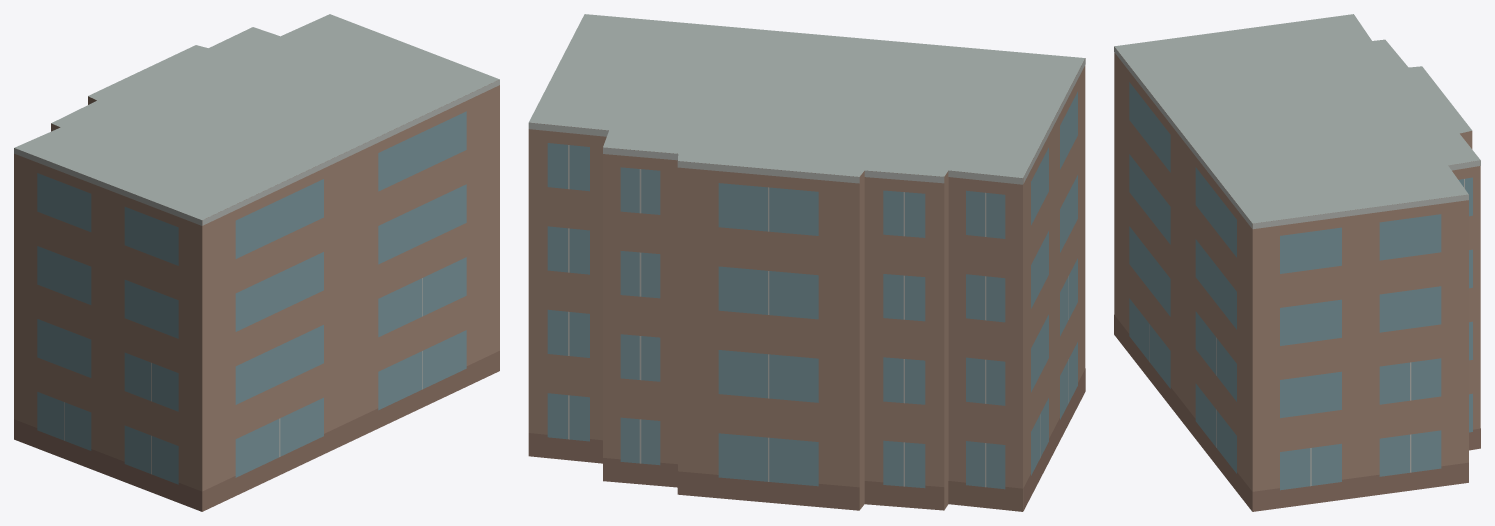
The model's file is survey-upis-32756195.glb.
3 views of the same model, side by side, from view 1: azimuth 30°, elevation 25°; view 2: azimuth 150°, elevation 25°; view 3: azimuth 270°, elevation 25° (orthographic). The views are drawn at different scales.
Visible parts, largest first — view 1: survey-upis-32756195.tmp; view 2: survey-upis-32756195.tmp; view 3: survey-upis-32756195.tmp.
Part boxes in pixels (left/top/right/bottom): survey-upis-32756195.tmp: left=14, top=14, right=499, bottom=511; survey-upis-32756195.tmp: left=528, top=14, right=1085, bottom=511; survey-upis-32756195.tmp: left=1114, top=14, right=1480, bottom=511.
Size of the model in its own units: 19.34 by 12.4 by 14.3.
